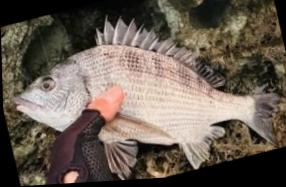fish: (12, 17, 278, 182)
